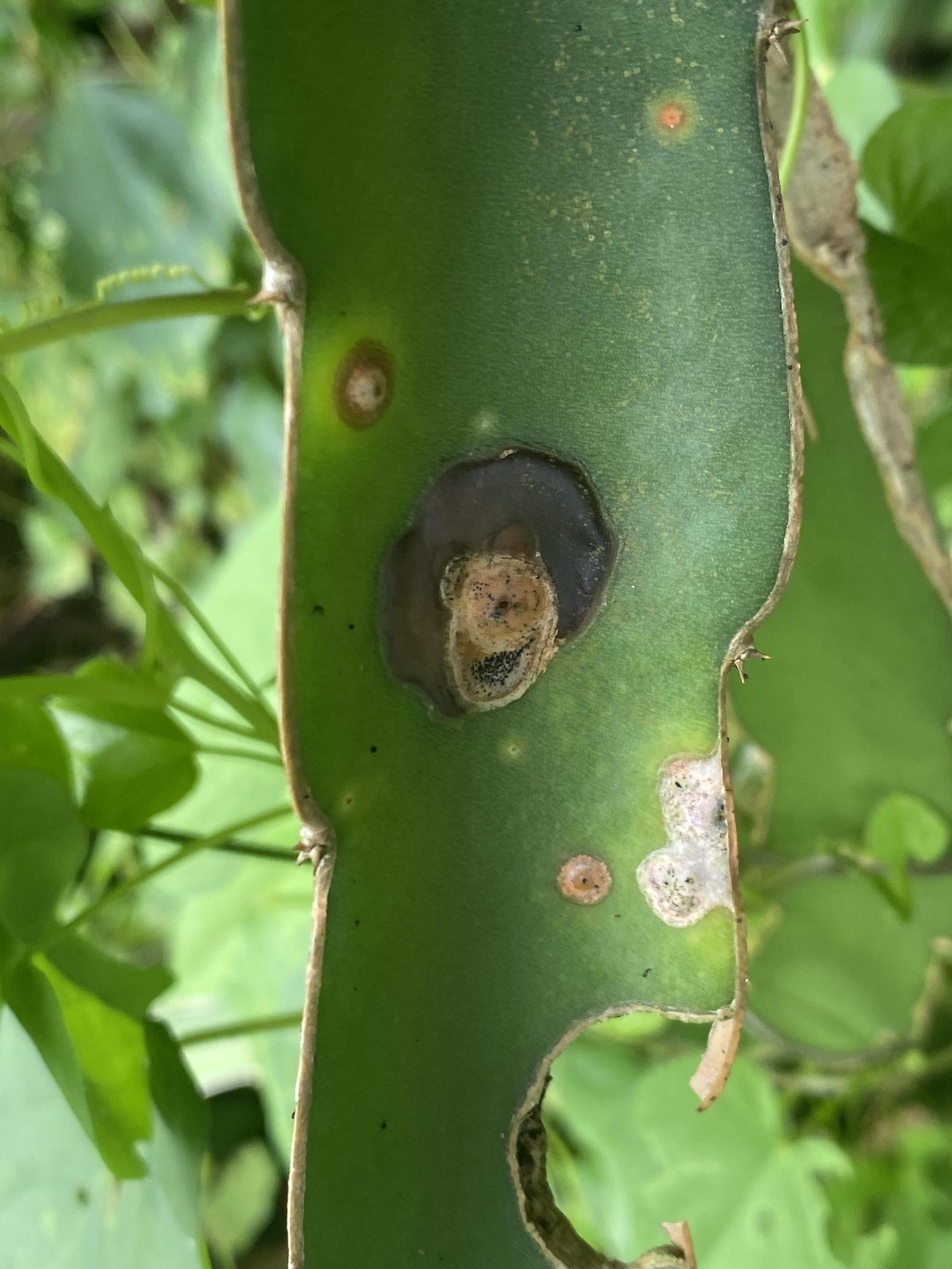stemcanker: (364, 432, 626, 730), (635, 748, 731, 936), (328, 335, 400, 438), (553, 848, 617, 909)
